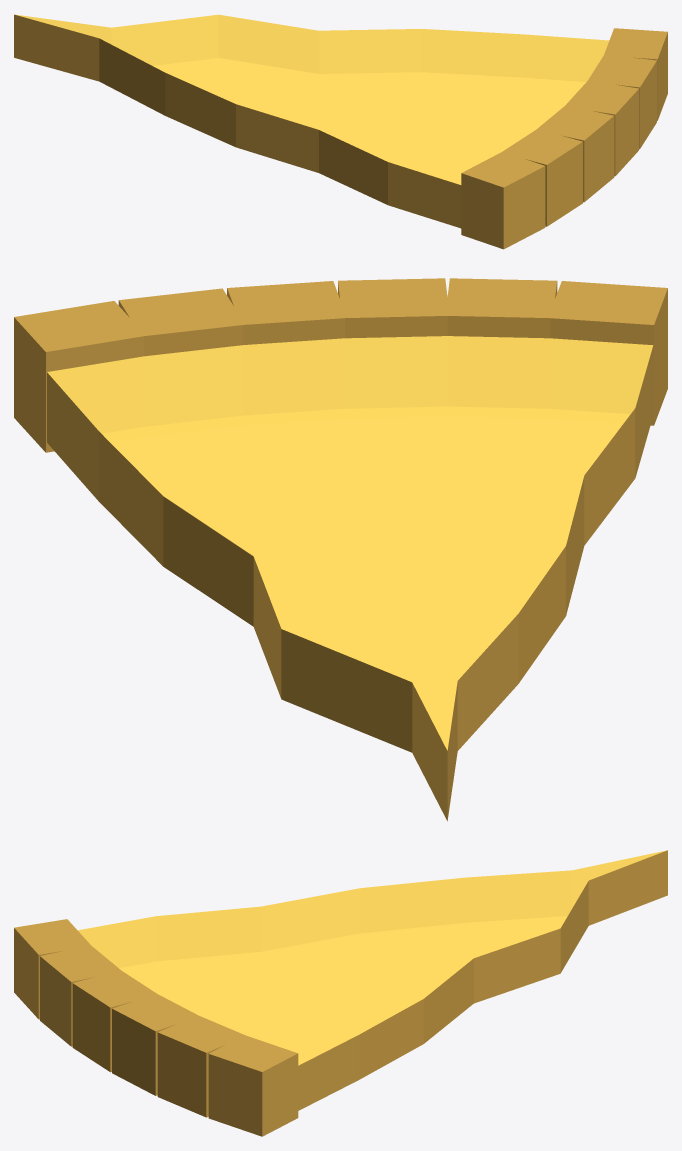
Rendered from prop_compass_piece_09_v01.glb.
3 views of the same model, one above another, from view 1: azimuth 30°, elevation 25°; view 2: azimuth 150°, elevation 25°; view 3: azimuth 270°, elevation 25° (orthographic). The views are drawn at different scales.
Visible parts, largest first — view 1: piece_09; view 2: piece_09; view 3: piece_09.
Part boxes in pixels (x1,y1,x2,y2): piece_09: [14, 14, 667, 249]; piece_09: [14, 278, 667, 821]; piece_09: [14, 850, 667, 1136].
Size of the model in its own units: 0.3893 by 0.05 by 0.4581.
